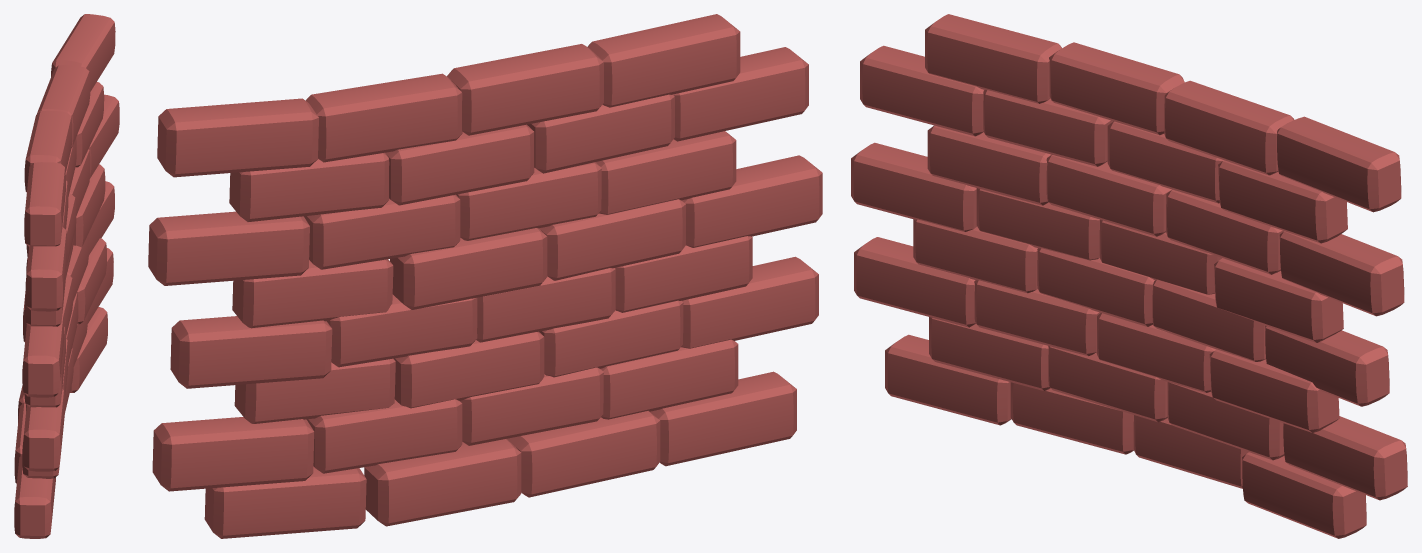
Rendered from brick_tiling_curved.fbx.
3 renders of one model, left to right at view 1: azimuth 30°, elevation 25°; view 2: azimuth 150°, elevation 25°; view 3: azimuth 270°, elevation 25°, orthographic. The views are drawn at different scales.
Visible parts, largest first — view 1: brick15, brick11, brick19, brick14, brick23, brick28, brick7, brick12, brick31, brick21, brick4, brick6 (+17 smaller); view 2: brick19, brick25, brick6, brick12, brick7, brick18, brick30, brick15, brick, brick29, brick31, brick28 (+20 smaller); view 3: brick15, brick19, brick12, brick7, brick6, brick11, brick14, brick25, brick23, brick18, brick31, brick28 (+20 smaller).
Part boxes in pixels (left/top/right/bottom): brick15: left=24, top=162, right=65, bottom=247; brick11: left=22, top=316, right=64, bottom=397; brick19: left=51, top=14, right=115, bottom=91; brick14: left=25, top=227, right=67, bottom=311; brick23: left=23, top=389, right=64, bottom=471; brick28: left=14, top=455, right=55, bottom=538; brick7: left=37, top=65, right=90, bottom=147; brick12: left=24, top=110, right=72, bottom=192; brick31: left=70, top=307, right=107, bottom=392; brick21: left=77, top=238, right=106, bottom=324; brick4: left=73, top=164, right=105, bottom=247; brick6: left=88, top=94, right=119, bottom=178; brick19: left=157, top=98, right=318, bottom=177; brick25: left=152, top=417, right=314, bottom=491; brick6: left=148, top=211, right=309, bottom=285; brick12: left=447, top=44, right=603, bottom=135; brick7: left=305, top=73, right=462, bottom=162; brick18: left=170, top=316, right=332, bottom=388; brick30: left=364, top=439, right=521, bottom=526; brick15: left=587, top=14, right=740, bottom=107; brick: left=390, top=228, right=547, bottom=309; brick29: left=506, top=411, right=660, bottom=497; brick31: left=204, top=466, right=366, bottom=538; brick28: left=650, top=371, right=796, bottom=466; brick15: left=925, top=14, right=1061, bottom=103; brick19: left=1277, top=116, right=1401, bottom=212; brick12: left=1049, top=42, right=1184, bottom=135; brick7: left=1164, top=80, right=1294, bottom=175; brick6: left=1279, top=231, right=1404, bottom=316; brick11: left=851, top=142, right=977, bottom=231; brick14: left=860, top=45, right=983, bottom=136; brick25: left=1283, top=416, right=1407, bottom=500; brick23: left=854, top=237, right=975, bottom=327; brick18: left=1265, top=326, right=1389, bottom=406; brick31: left=1242, top=452, right=1366, bottom=538; brick28: left=885, top=334, right=1011, bottom=425.
Size of the model in its own units: 286 by 295 by 376.
